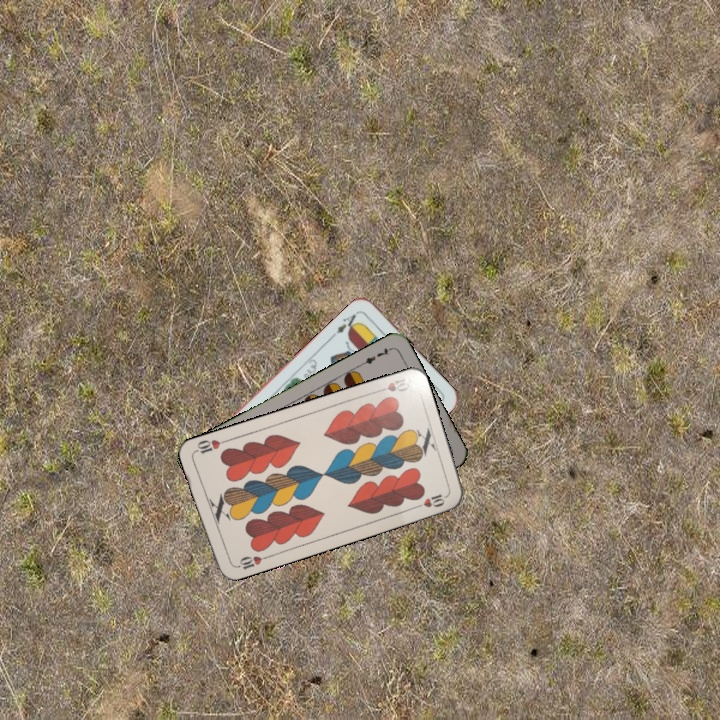E7: (357, 344, 394, 368)
EA: (328, 308, 362, 339)
H10: (372, 372, 412, 396), (230, 552, 270, 572)
